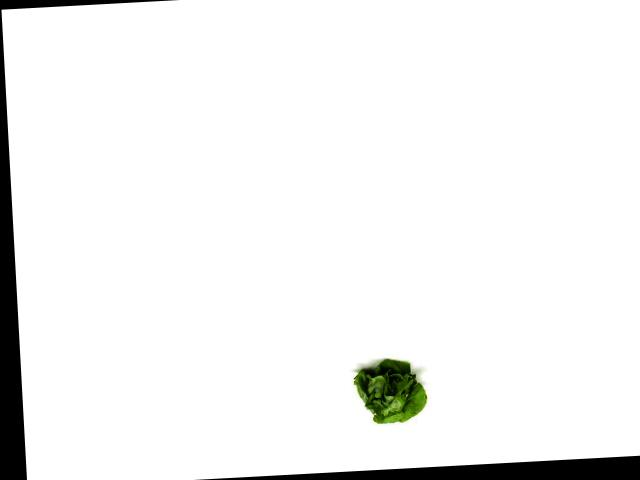lettuce: (350, 353, 429, 431)
